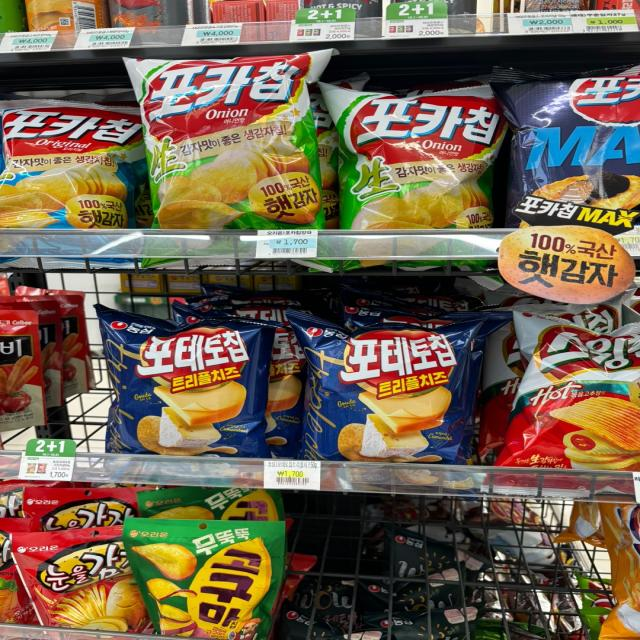product: (130, 59, 329, 225), (310, 309, 477, 470), (98, 316, 272, 456), (500, 313, 640, 477), (338, 89, 492, 236), (130, 521, 281, 633)
